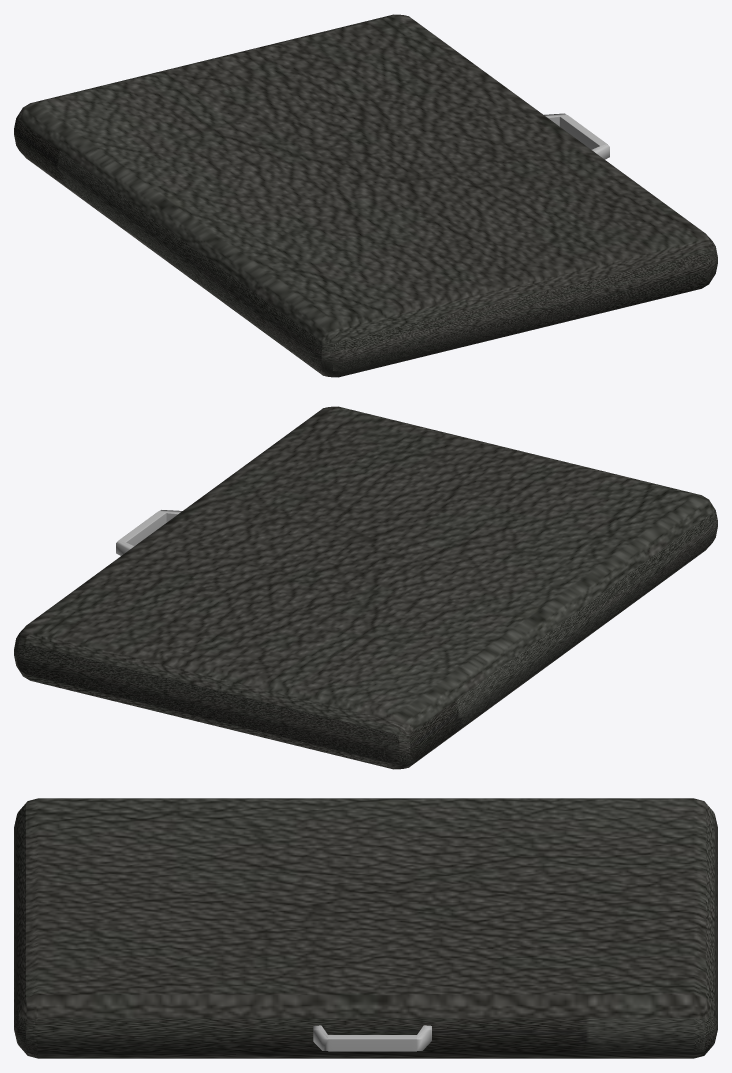
The model's file is psx_-_suitcase.glb.
The picture shows the model from 3 angles, top to bottom: view 1: azimuth 30°, elevation 25°; view 2: azimuth 150°, elevation 25°; view 3: azimuth 270°, elevation 25°; orthographic projection. The views are drawn at different scales.
Visible parts, largest first — view 1: pCube14; view 2: pCube14; view 3: pCube14.
Boxes of the visible parts, box(x1,y1,x2,y2) form: pCube14: box(14, 14, 717, 377); pCube14: box(14, 406, 717, 769); pCube14: box(14, 798, 717, 1058).
Size of the model in its own units: 0.0326 by 0.00409 by 0.0424.
Materials: 3 (2 with a texture image).
